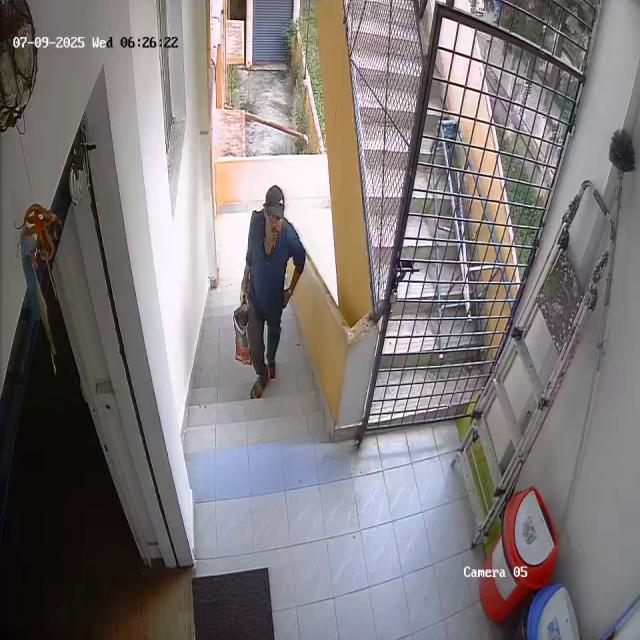person: (245, 182, 303, 396)
